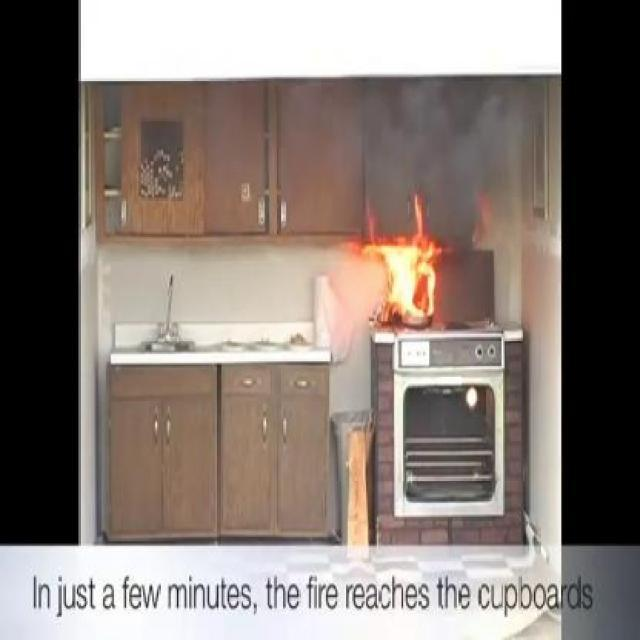fire: (349, 241, 449, 327)
smoke: (366, 89, 522, 200)
